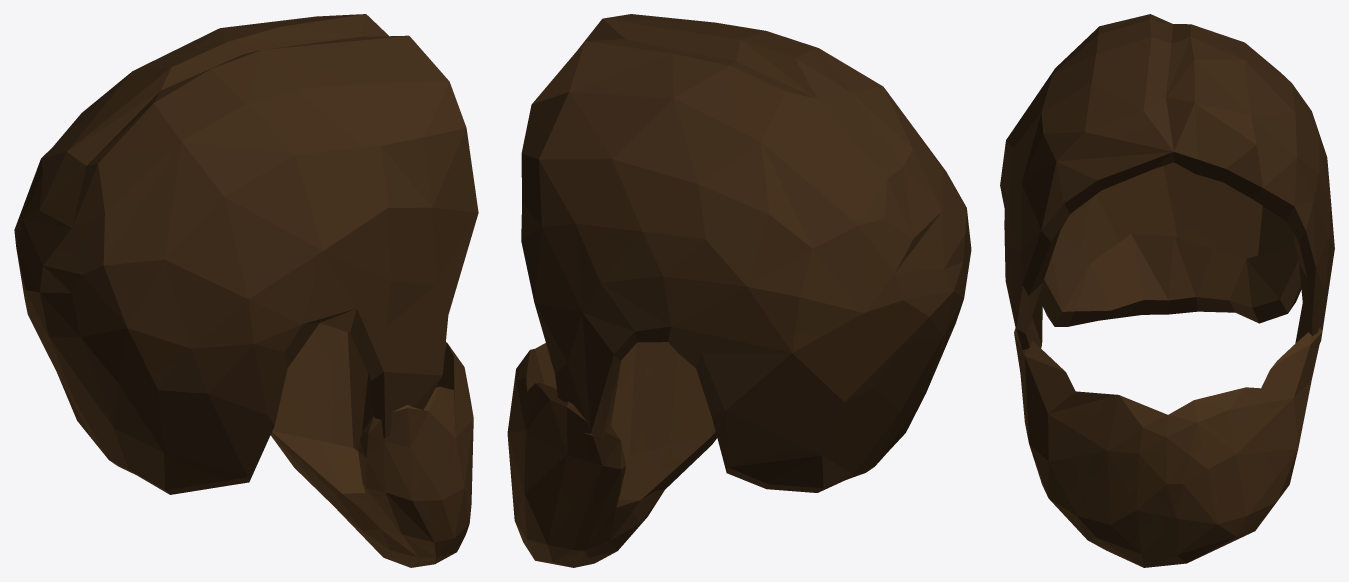
File: hair.fbx
3 renders of one model, left to right at view 1: azimuth 30°, elevation 25°; view 2: azimuth 150°, elevation 25°; view 3: azimuth 270°, elevation 25°, orthographic. The views are drawn at different scales.
Visible parts, largest first — view 1: Hair; view 2: Hair; view 3: Hair.
Boxes of the visible parts, box(x1,y1,x2,y2) form: Hair: box(14, 14, 478, 567); Hair: box(507, 14, 971, 567); Hair: box(1000, 14, 1334, 567).
Bounding box in the file's own units: 21.28 × 26.29 × 17.04.
